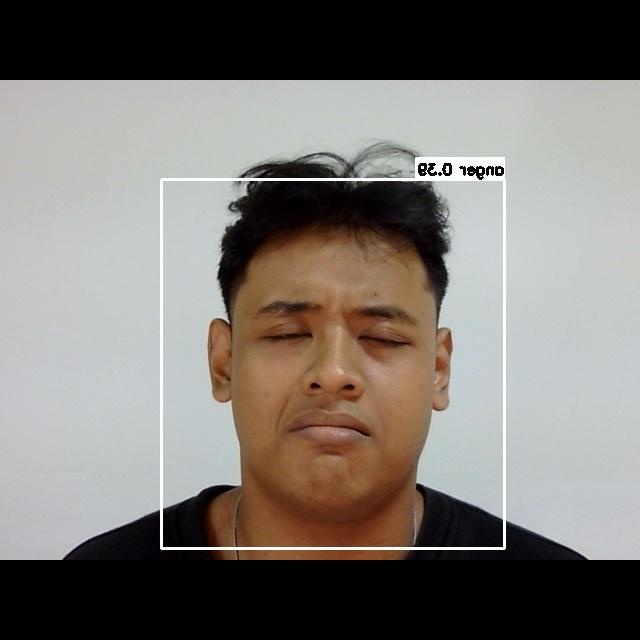Sad: (235, 281, 426, 466)
